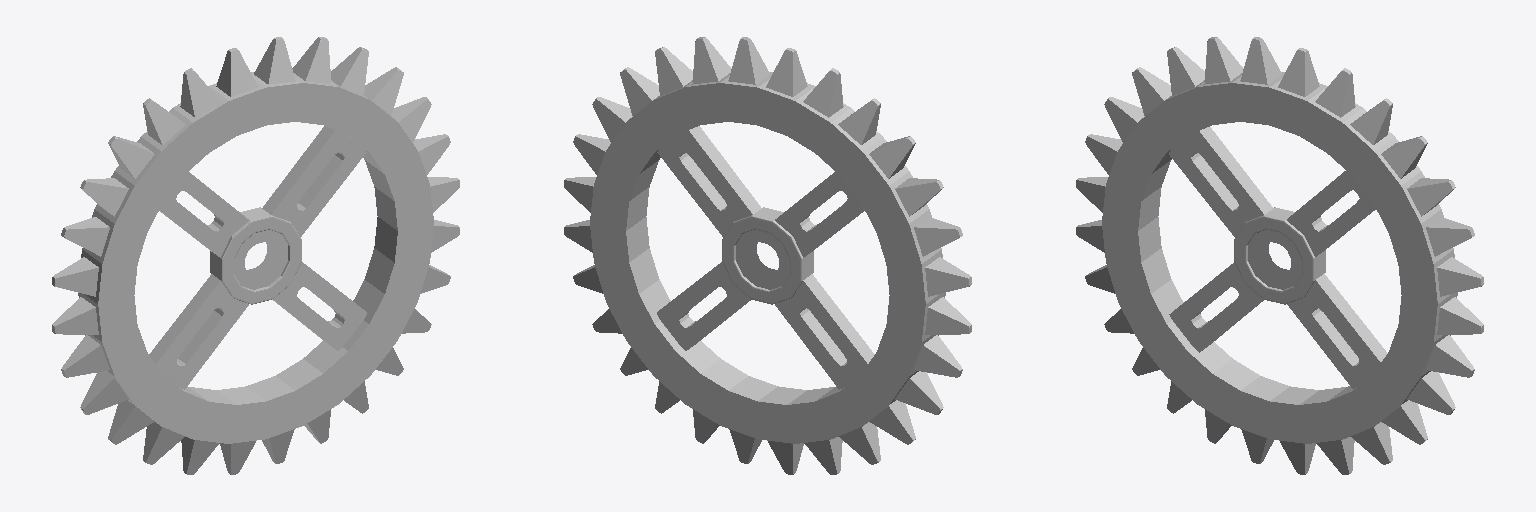
The model's file is gear8.obj.
The picture shows the model from 3 angles: view 1: azimuth 30°, elevation 25°; view 2: azimuth 150°, elevation 25°; view 3: azimuth 330°, elevation 25°; orthographic projection.
Parts seen in each view (by area): view 1: Cylinder.020_Cylinder.035; view 2: Cylinder.020_Cylinder.035; view 3: Cylinder.020_Cylinder.035.
Boxes of the visible parts, x1,y1,x2,y2 form: Cylinder.020_Cylinder.035: [52, 37, 459, 474]; Cylinder.020_Cylinder.035: [564, 37, 971, 474]; Cylinder.020_Cylinder.035: [1076, 37, 1483, 474].
Bounding box in the file's own units: 2.42 × 2.42 × 0.2106.